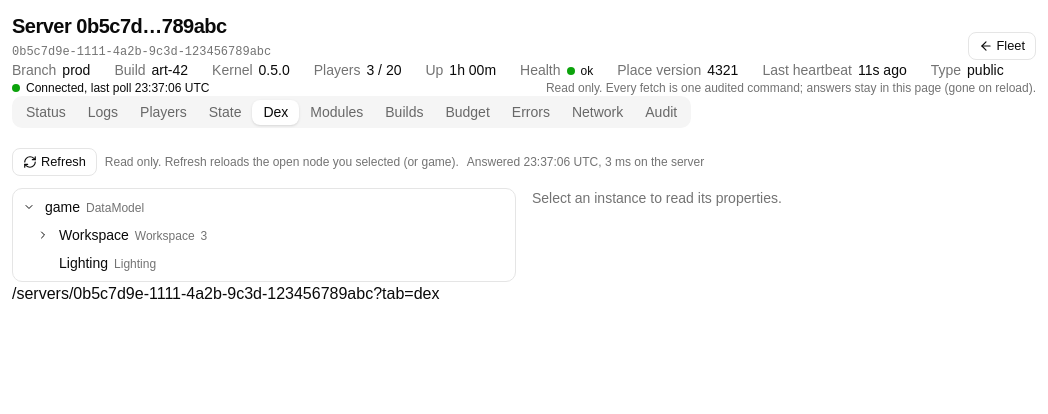
Test case: the server page › Dex: game's children on first view, properties of the selected instance
What coordinates should you click on to do the following:
click the button with aria-label "Workspace (Workspace, 3 children)"
I would click on:
 (133, 235)
Its box is x1=59 y1=221 x2=207 y2=249.
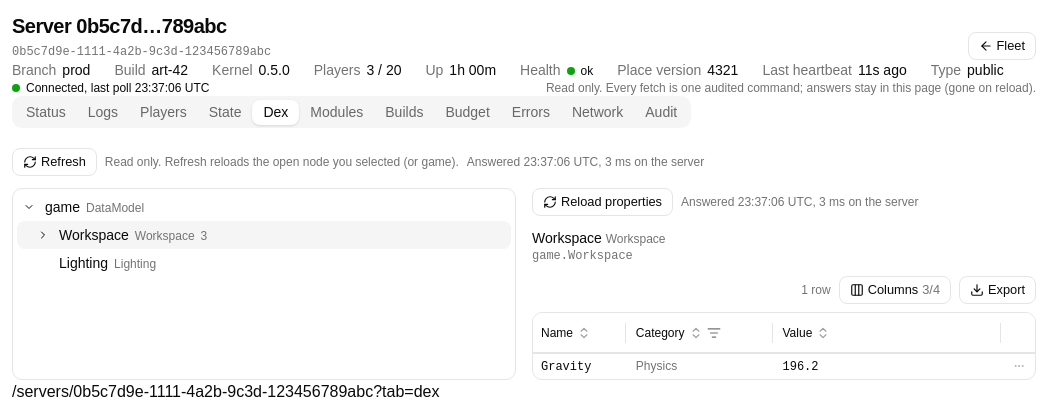
Now the text "196.2" is shown, box x1=782 y1=360 x2=818 y2=374
